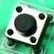Button: (2, 0, 51, 47)
